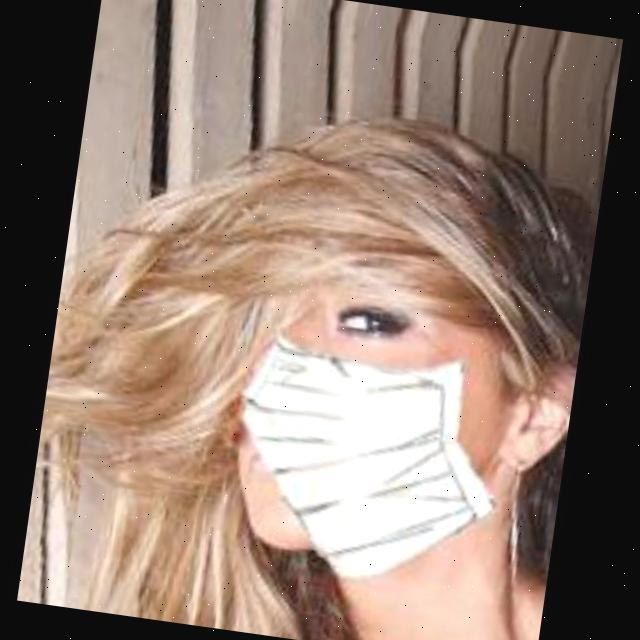suspicion: (162, 180, 582, 618)
